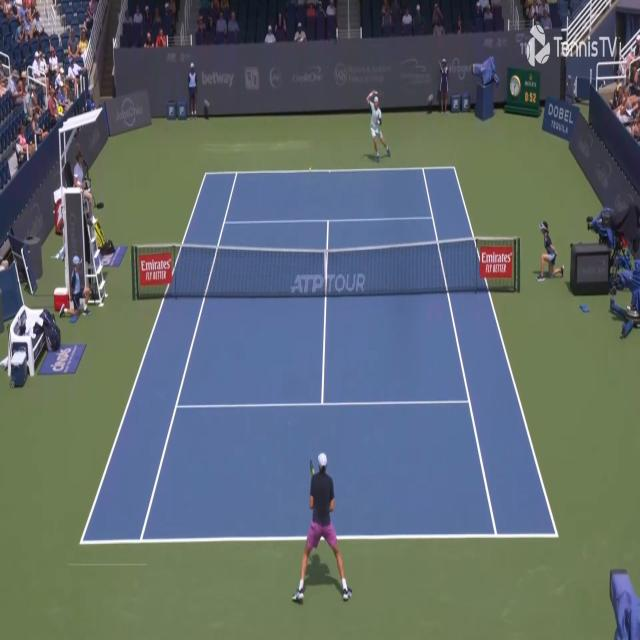tennis-player: (290, 448, 358, 611), (366, 90, 392, 162)
